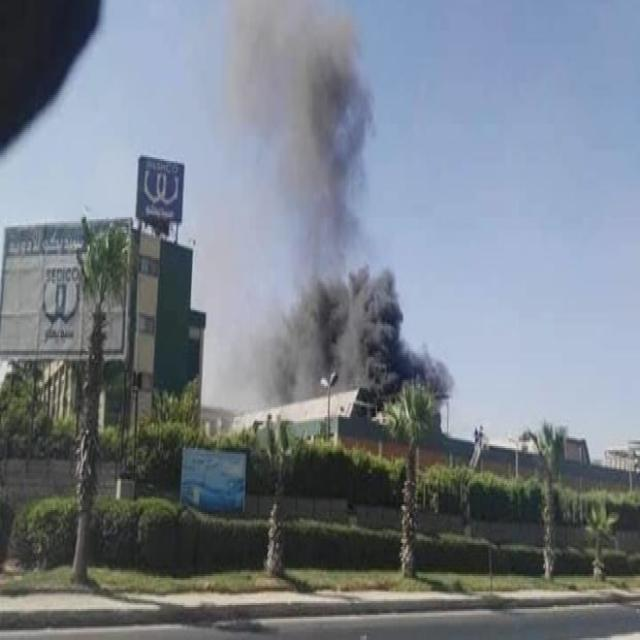Smoke: (224, 4, 456, 417)
